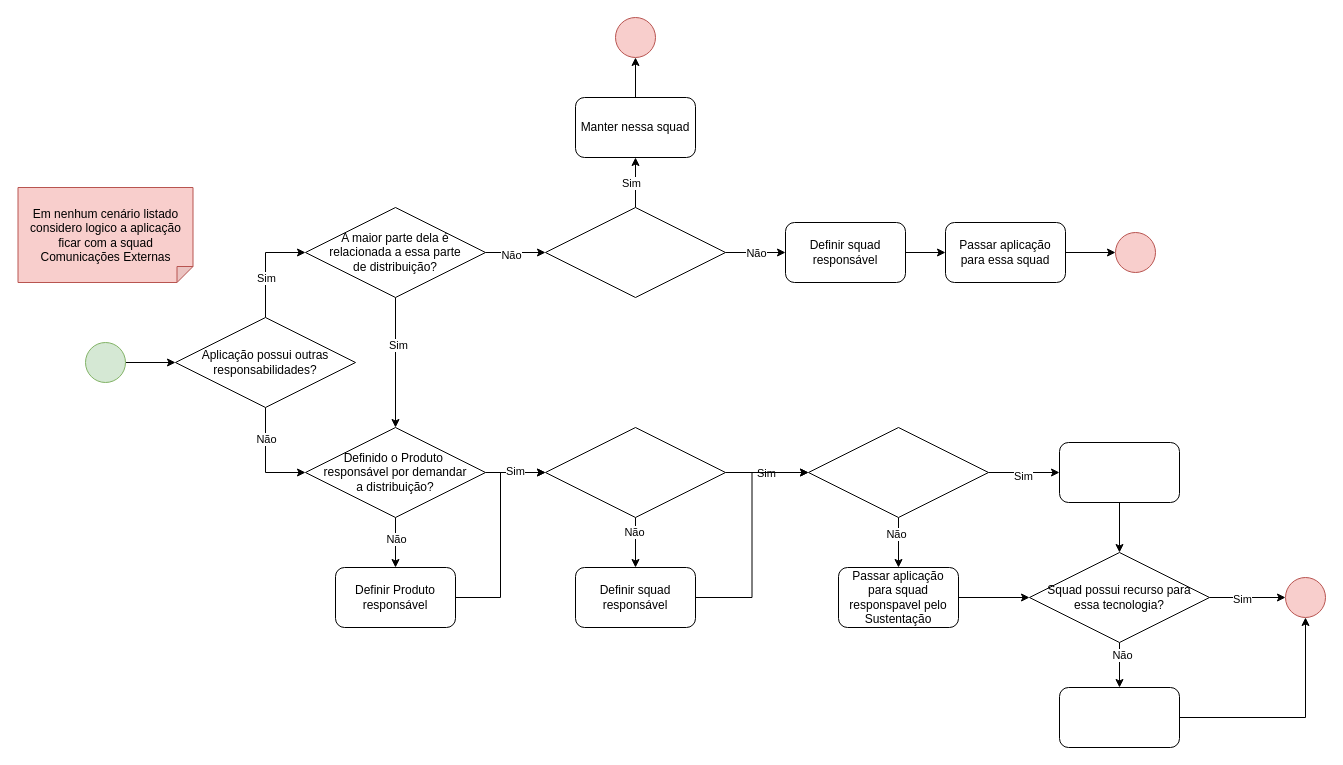
Some shapes in this 1343 by 765 pixel diagram are drawn without their labels. Each missing label, with the centre of its shape:
"As demais responsabilidades é escopo da squad atual?" belongs at pixel 635 252.
"Há squad definida para o Produto?" belongs at pixel 635 472.
"Negociar vinda de recurso" belongs at pixel 1119 717.
"Passar aplicação para squad responspavel pelo Produto" belongs at pixel 1119 472.
"Sustentação é feita pela Squad responsável pelo Produto?" belongs at pixel 898 472.
